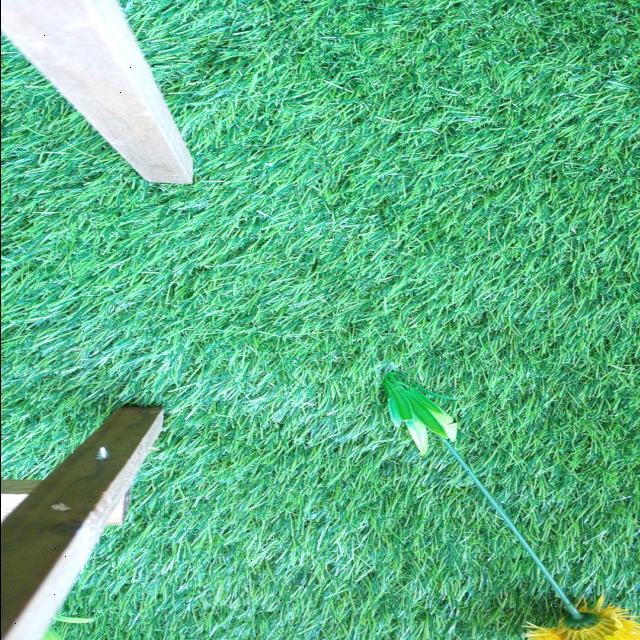base: (382, 374, 456, 449)
flower: (521, 606, 640, 640)
